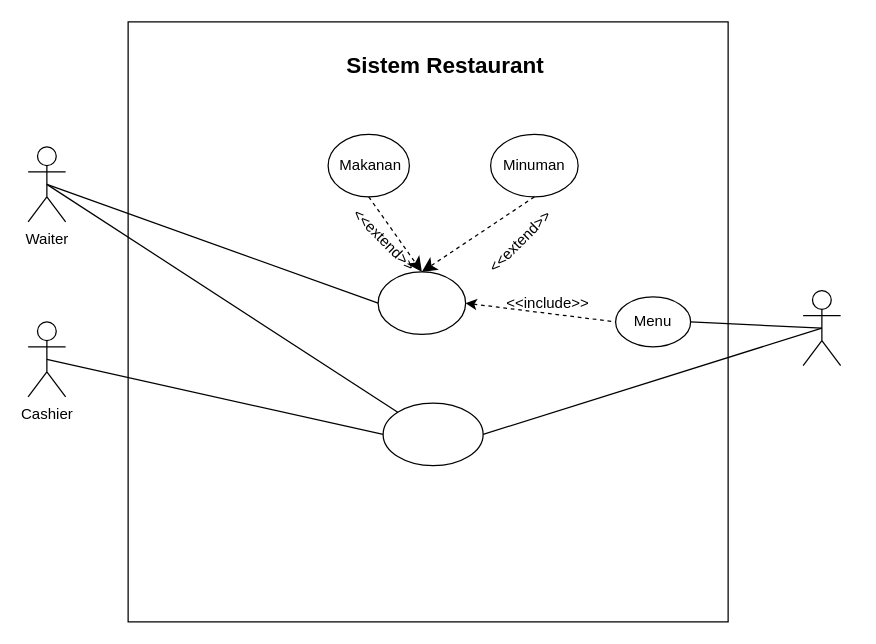
Some shapes in this 876 by 644 pixel diagram are drawn without their labels. The centre of each missing label's shape, as x and y in pixels:
Customer: point 821,327
Order: point 421,302
Pembayaran: point 432,434
